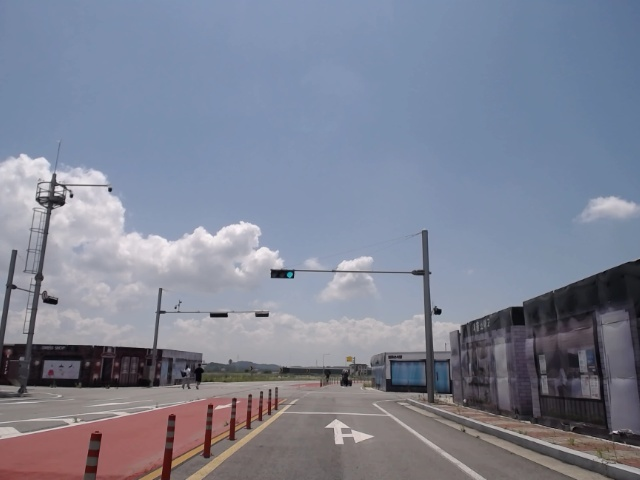green_3: (270, 270, 294, 278)
